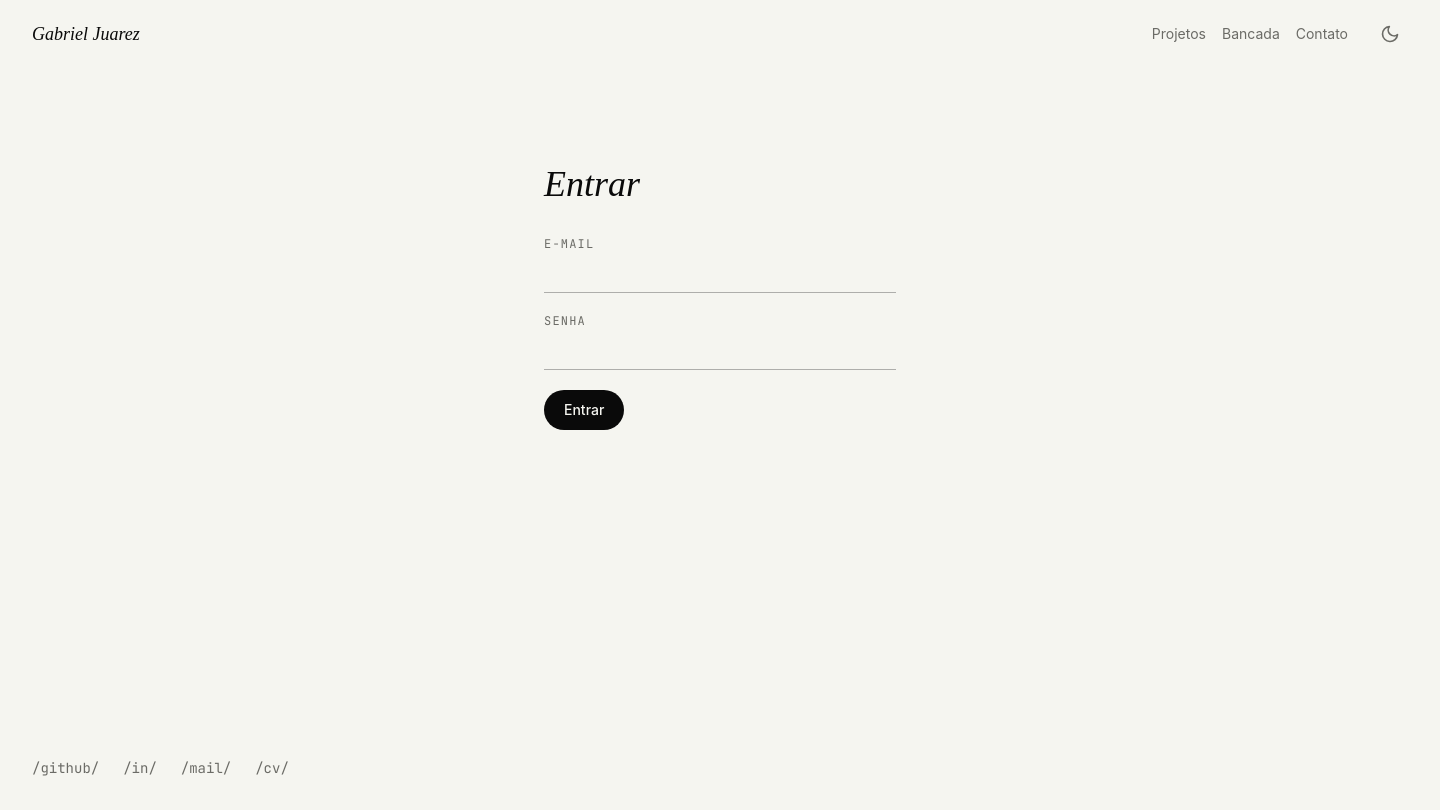
Test: LoginPage › avisa quando o e-mail ou a senha estão errados
The image size is (1440, 810).
Type "dono@exemplo.com" into the field labelled "E-mail" at (720,274), box 544,256 -> 896,293
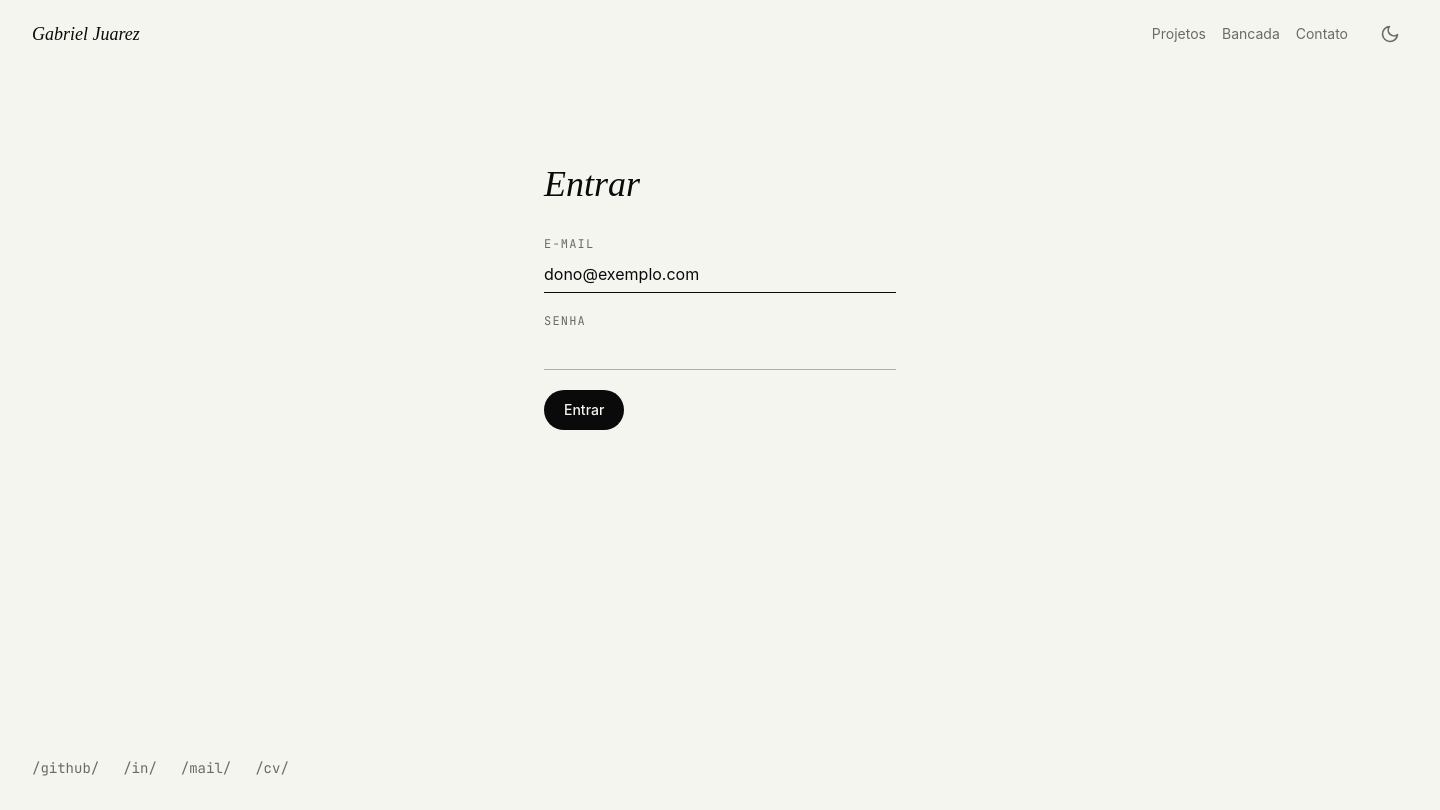
Type "errada" into the password field labelled "Senha" at (720,352), box 544,333 -> 896,370
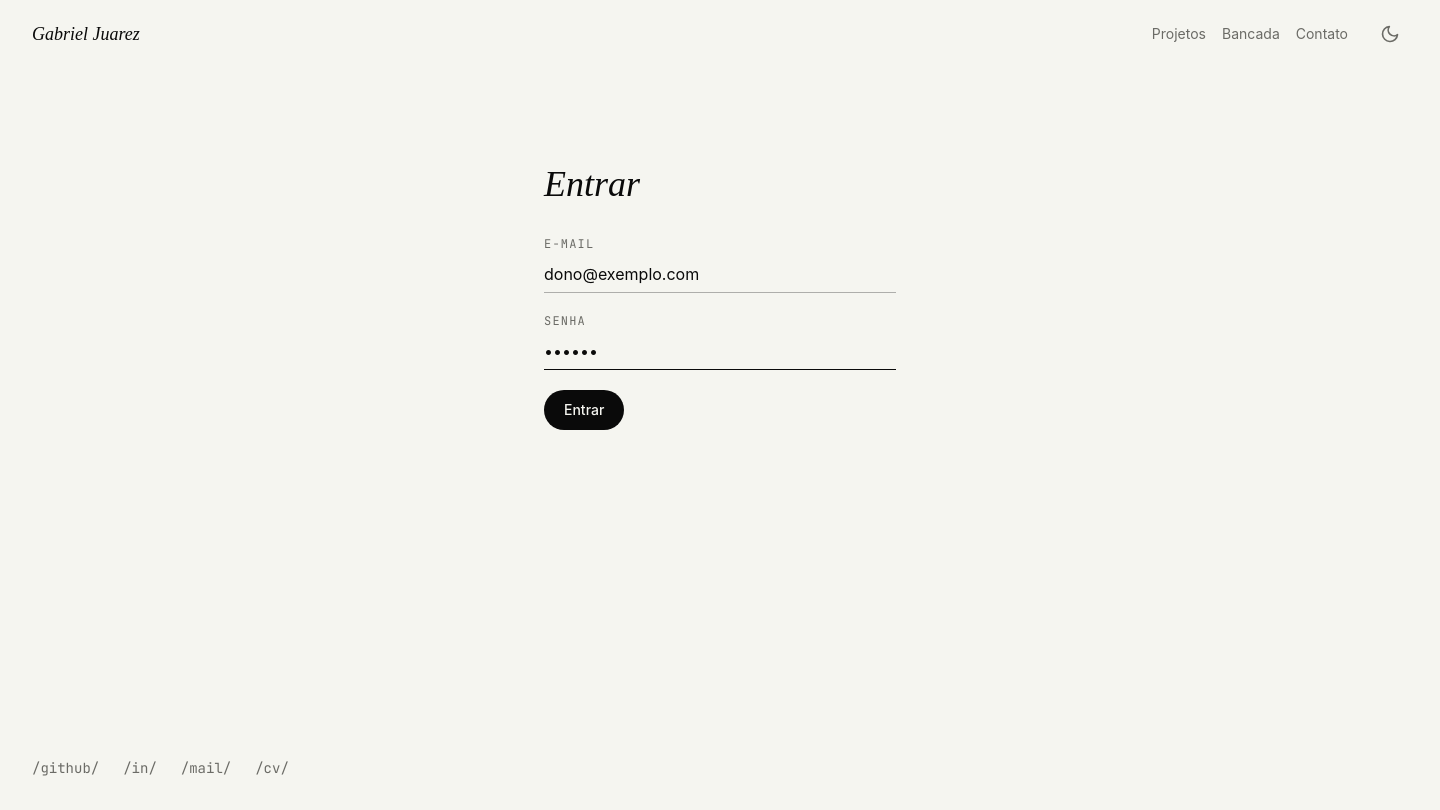
Click the button "Entrar" at (584,410), box 544,390 -> 624,430
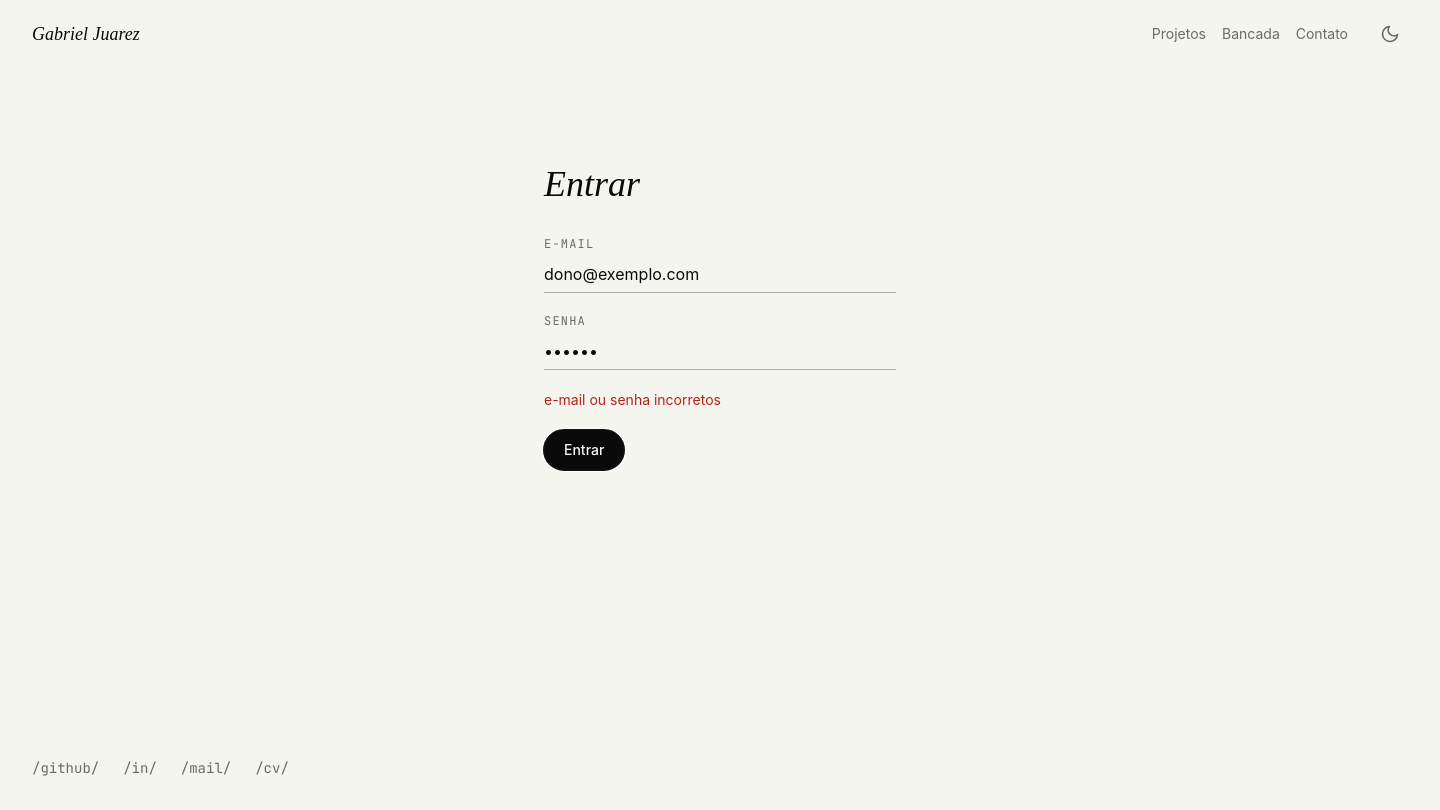
Now the message reads "e-mail ou senha incorretos", box 544,391 -> 721,408
